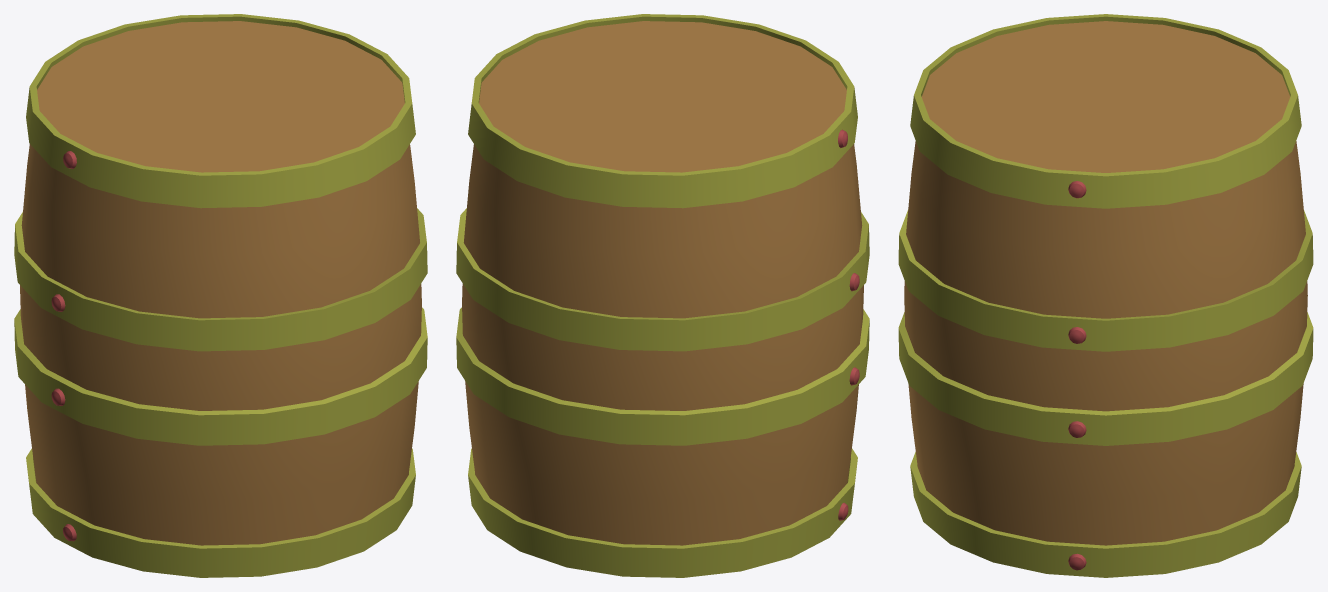
File: Barrel_2.fbx
The picture shows the model from 3 angles, left to right: view 1: azimuth 30°, elevation 25°; view 2: azimuth 150°, elevation 25°; view 3: azimuth 270°, elevation 25°; orthographic projection.
Visible parts, largest first — view 1: Barrel_2; view 2: Barrel_2; view 3: Barrel_2.
Boxes of the visible parts, x1,y1,x2,y2 form: Barrel_2: (14,14,427,577); Barrel_2: (456,14,869,577); Barrel_2: (898,14,1313,577).
Bounding box in the file's own units: 8.45 × 8.97 × 8.39.
